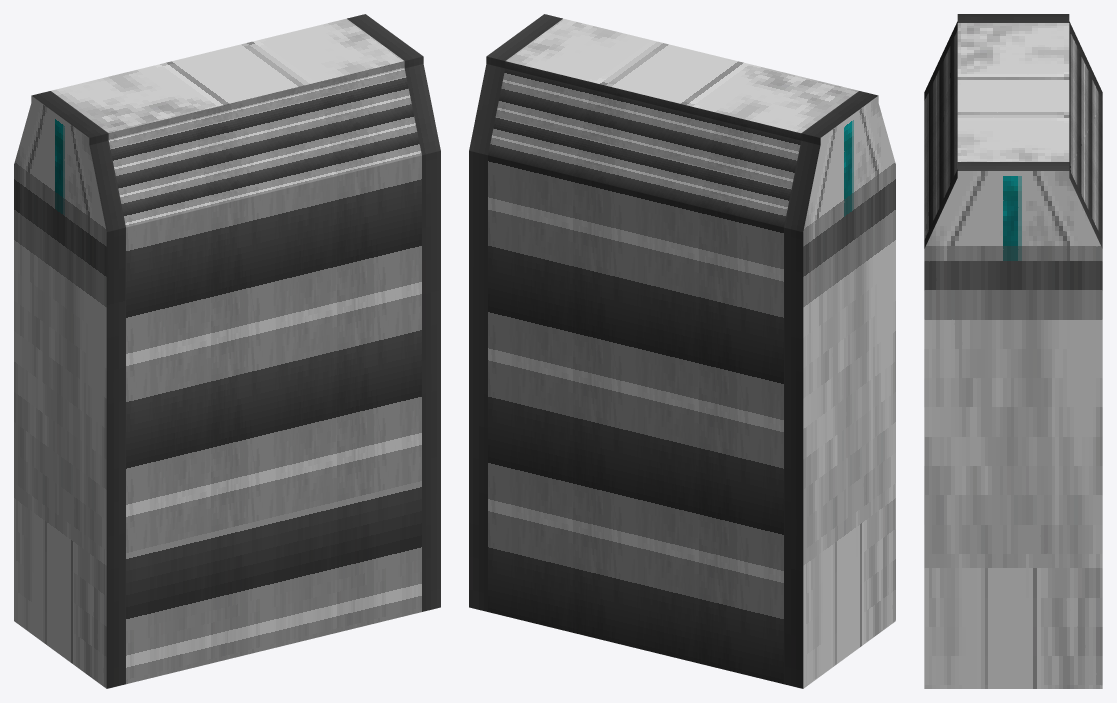
File: building4.glb
The picture shows the model from 3 angles, left to right: view 1: azimuth 30°, elevation 25°; view 2: azimuth 150°, elevation 25°; view 3: azimuth 270°, elevation 25°; orthographic projection. The views are drawn at different scales.
Visible parts, largest first — view 1: Cube; view 2: Cube; view 3: Cube.
Part boxes in pixels (bbox=[...]): Cube: bbox=[14, 14, 440, 688]; Cube: bbox=[469, 14, 895, 688]; Cube: bbox=[924, 14, 1102, 688].
Bounding box in the file's own units: 17.48 × 26.9 × 8.4.
Materials: 2 (2 with a texture image).
